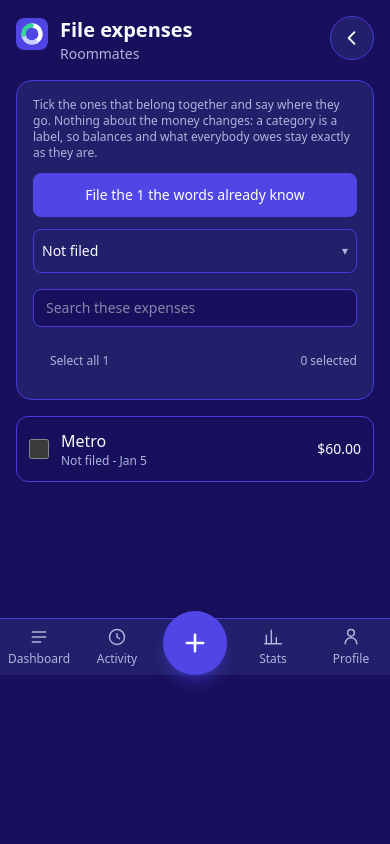
Test: filing expenses in bulk › filing the ticked ones › empties the list it just cleared
Click the checkbox labelled "Metro Not filed - Jan 5 $60.00".
click(39, 449)  # box [29,439,49,459]
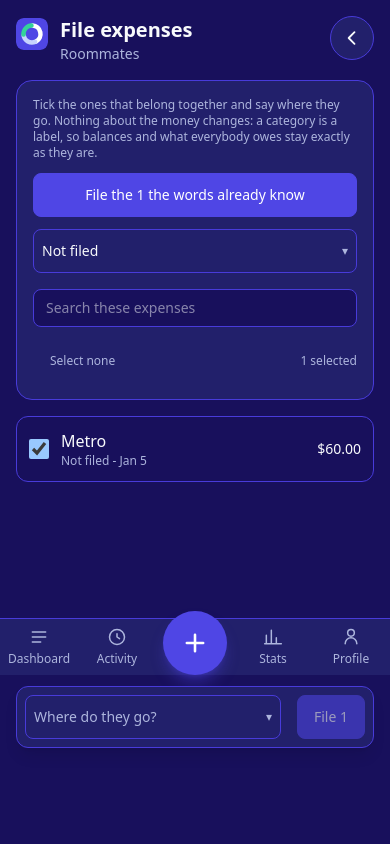
Click the button "Where do they go? ▾".
click(153, 717)  # box [25,695,281,739]
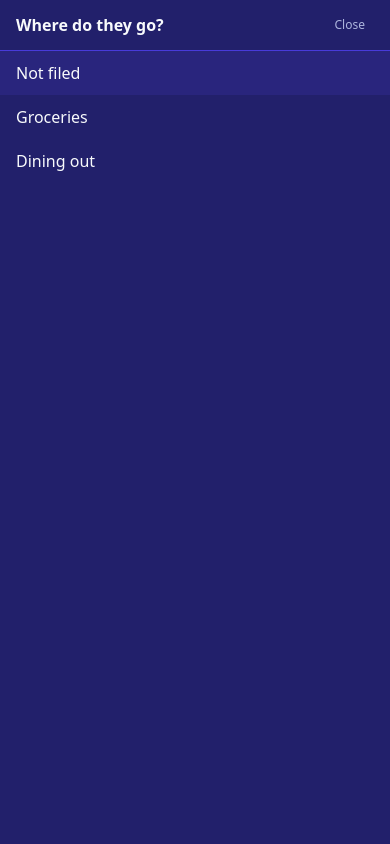
Click the option "Groceries".
click(52, 117)  # box [0,95,389,139]
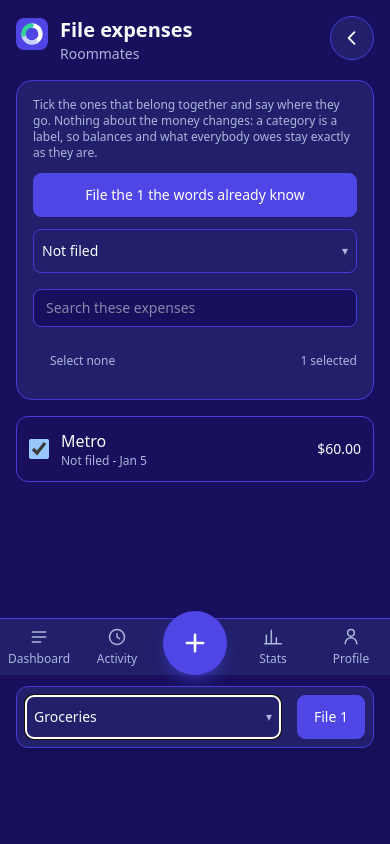
Click the button with test id "file-selected".
click(331, 717)  # box [297,695,365,739]
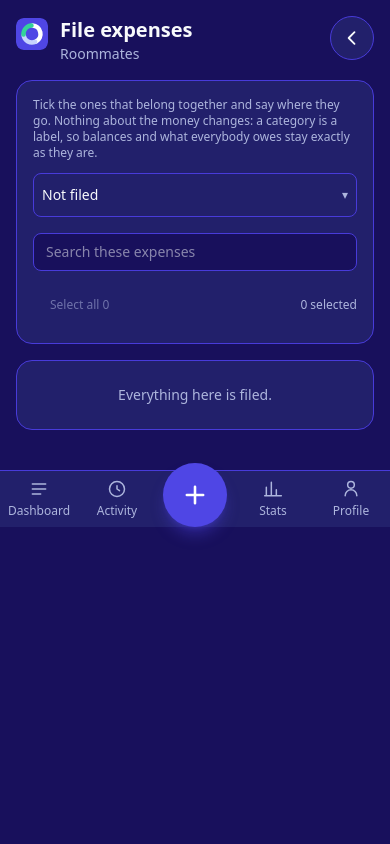
Expected: no labels with test id "filing-row" are shown
